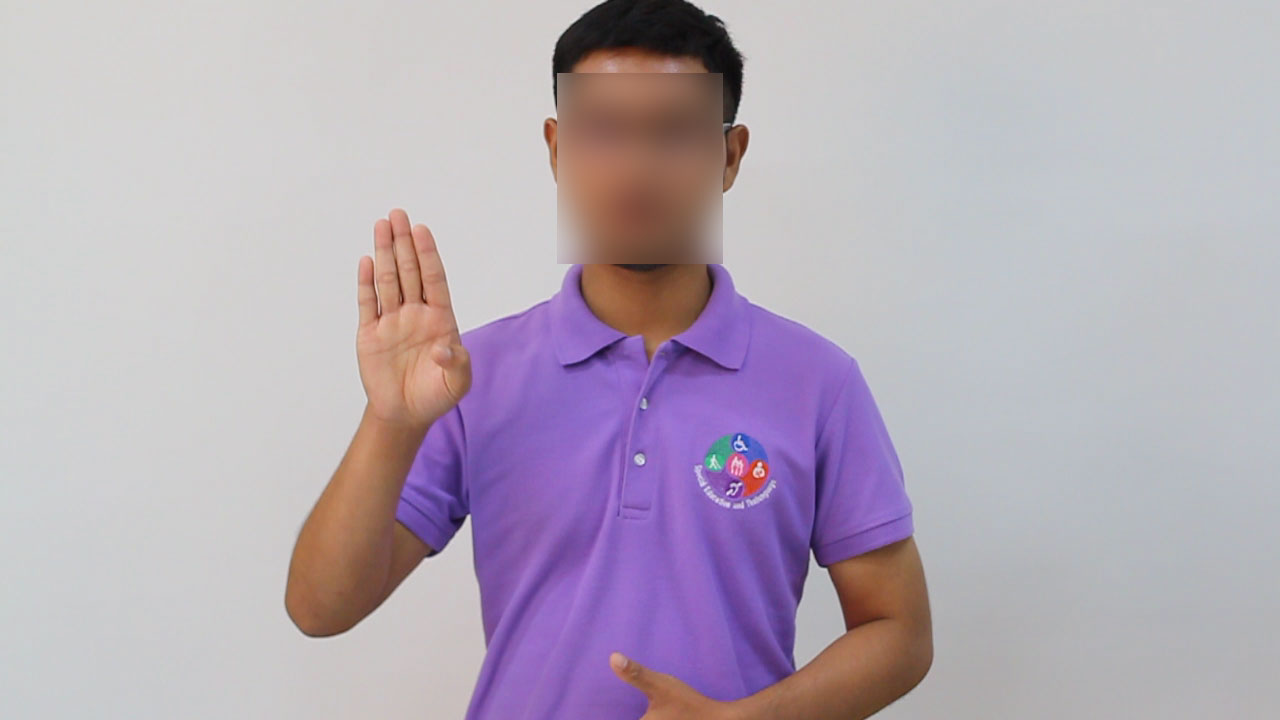bor: (340, 196, 482, 454)
